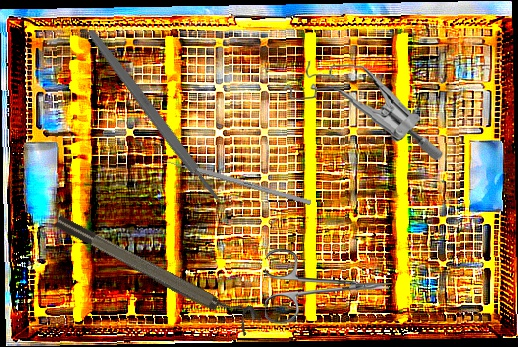Fixation Ring: (52, 203, 260, 337)
Iris Scissors: (264, 248, 390, 327)
Pusher: (152, 154, 312, 206)
Scalpel Handle: (85, 27, 222, 203)
Speculum: (277, 58, 448, 162)
